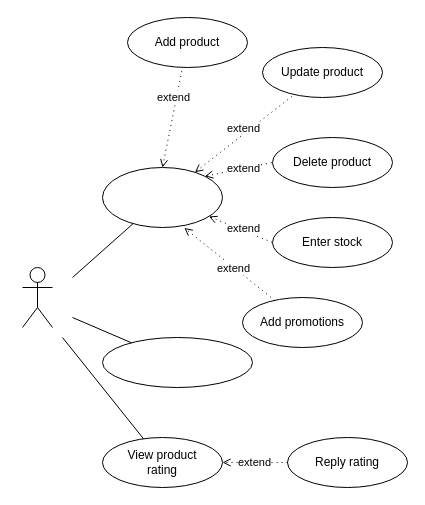
This 425x505 diagram has some shape labels left out. Here are the shapes that lost their labels. From the top down, the box of each, then its label:
(102, 166, 222, 228): Manage product
(22, 266, 52, 328): Agency
(102, 336, 252, 388): Change order status
